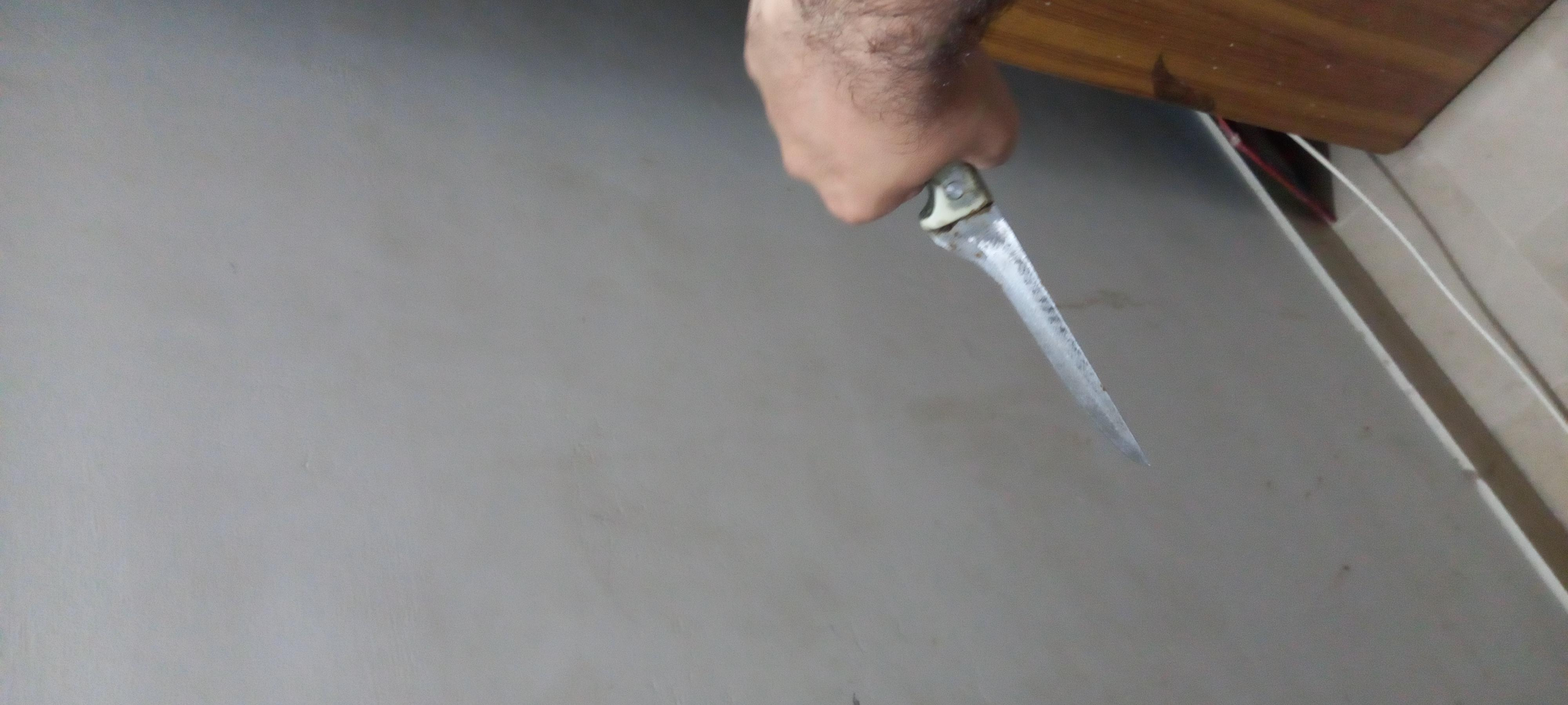knives: (471, 409, 1267, 513)
